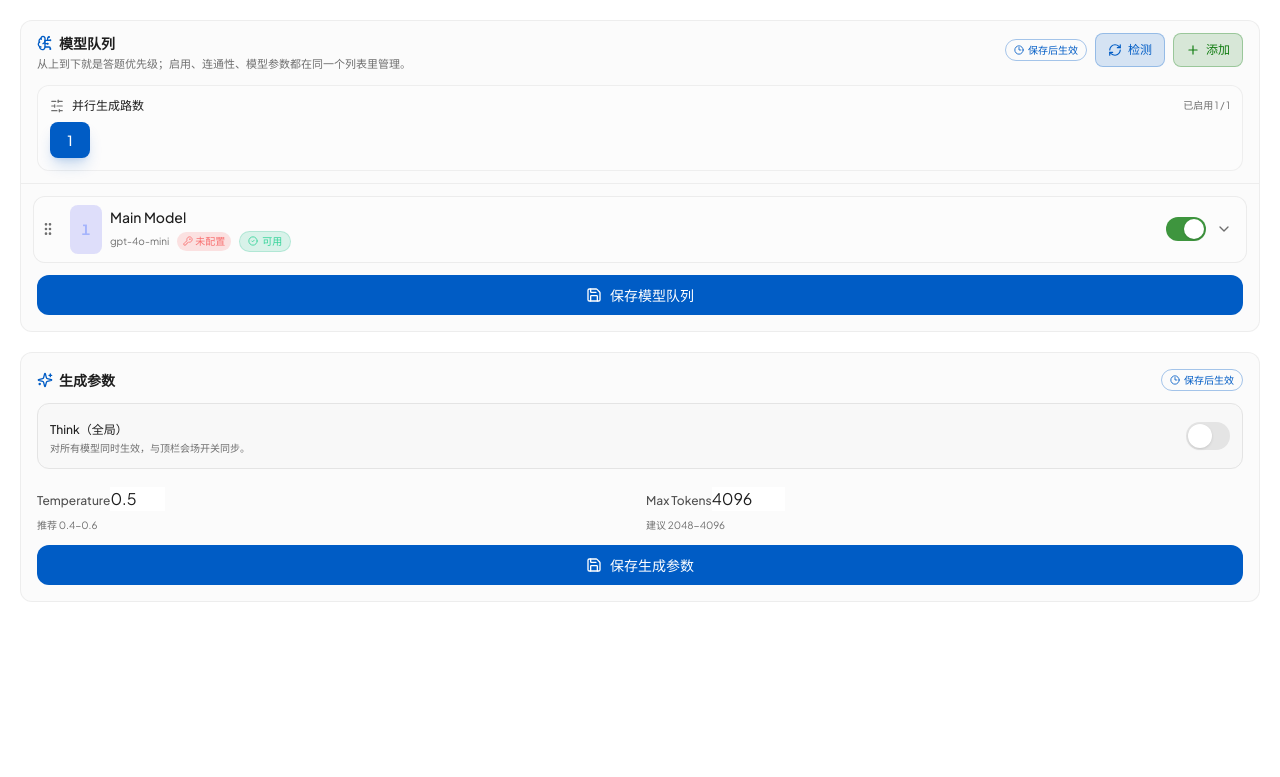
ModelsTab state sync › auto-checks probed vision and think capabilities when testing a model
This screenshot has width=1280, height=777.
Expected: the button "保存模型队列" is shown, [37, 275, 1243, 315]
Click the text "Main Model": (148, 217) [110, 207, 186, 227]
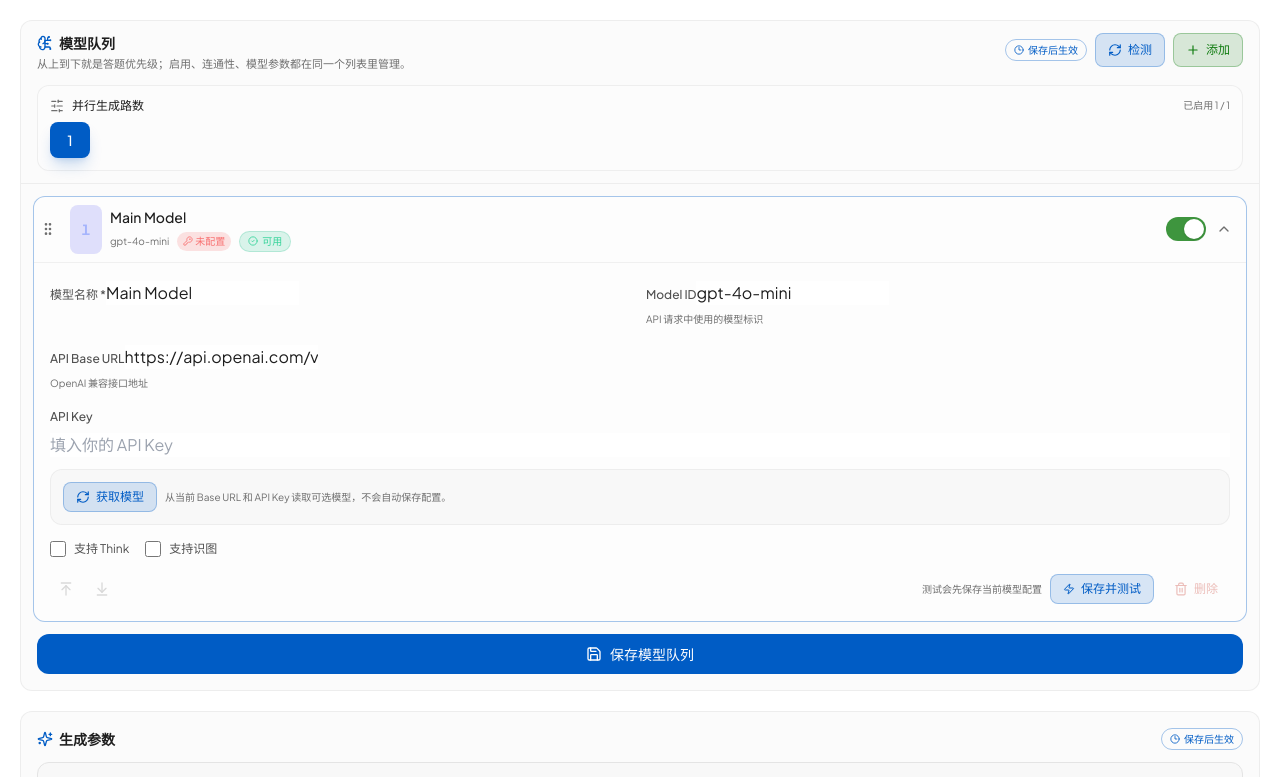
Click the button "保存并测试": (1102, 589) [1050, 574, 1154, 604]
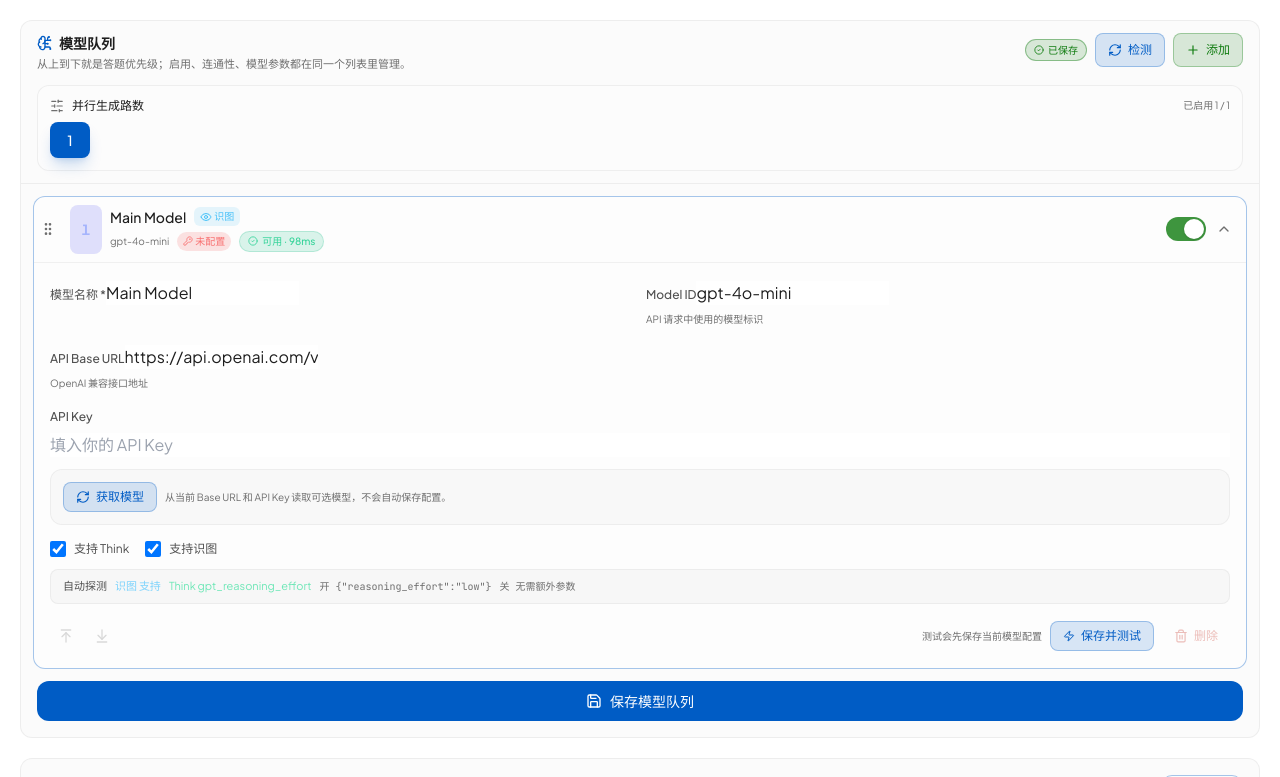
Now the text "自动探测" is shown, box [63, 578, 107, 595]
Now the text "Think gpt_reasoning_effort" is shown, box [169, 578, 312, 595]
Now the text "识图 支持" is shown, box [115, 578, 161, 595]
